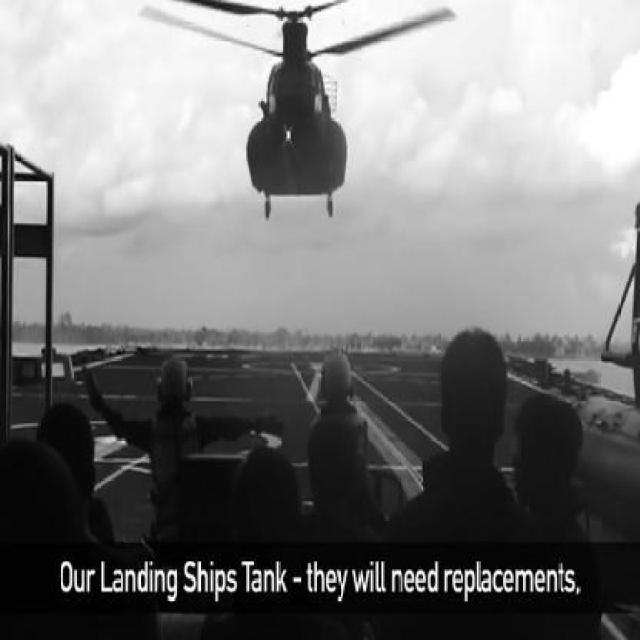Helicopter: (140, 1, 457, 221)
